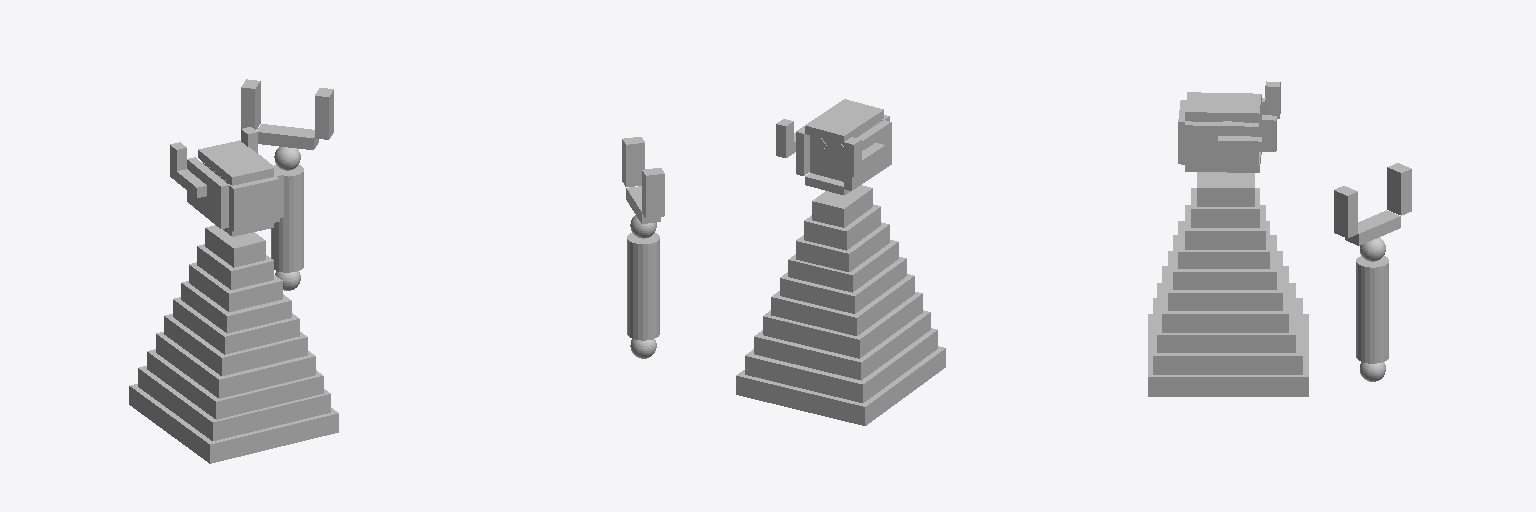
File: MageEnemy.obj
3 views of the same model, side by side, from view 1: azimuth 30°, elevation 25°; view 2: azimuth 150°, elevation 25°; view 3: azimuth 270°, elevation 25° (orthographic).
Parts seen in each view (by area): view 1: Abdomen (8), Abdomen (7), Abdomen (6), Abdomen (5), Abdomen (4), Abdomen (3), StaffBody, Abdomen (2), Hood4, Hood2, Abdomen (1), Abdomen (+6 smaller); view 2: Abdomen (8), Abdomen (7), Abdomen (6), Abdomen (5), StaffBody, Abdomen (4), Abdomen (3), Abdomen (2), Hood2, Abdomen (1), Body, Abdomen (+8 smaller); view 3: Abdomen (8), Abdomen (7), StaffBody, Abdomen (6), Abdomen (5), Abdomen (4), Hood, Abdomen (3), Hood2, Abdomen (2), Abdomen (1), Body (+7 smaller).
Boxes of the visible parts, x1,y1,x2,y2 form: Abdomen (8): [129, 384, 338, 463]; Abdomen (7): [138, 366, 330, 440]; Abdomen (6): [147, 349, 323, 419]; Abdomen (5): [156, 332, 315, 398]; Abdomen (4): [164, 314, 307, 375]; Abdomen (3): [173, 297, 299, 354]; StaffBody: [271, 165, 303, 272]; Abdomen (2): [181, 281, 291, 333]; Hood4: [229, 175, 279, 231]; Hood2: [198, 140, 273, 185]; Abdomen (1): [189, 262, 282, 311]; Abdomen: [197, 244, 273, 289]; Abdomen (8): [736, 346, 945, 425]; Abdomen (7): [745, 328, 937, 402]; Abdomen (6): [754, 310, 930, 380]; Abdomen (5): [763, 292, 922, 358]; StaffBody: [627, 233, 659, 340]; Abdomen (4): [771, 274, 914, 335]; Abdomen (3): [780, 257, 906, 313]; Abdomen (2): [788, 240, 898, 292]; Hood2: [805, 99, 883, 143]; Abdomen (1): [796, 222, 889, 271]; Body: [812, 185, 872, 227]; Abdomen: [804, 204, 880, 250]; Abdomen (8): [1148, 314, 1308, 396]; Abdomen (7): [1153, 298, 1302, 374]; StaffBody: [1356, 256, 1388, 363]; Abdomen (6): [1157, 283, 1295, 352]; Abdomen (5): [1162, 266, 1288, 332]; Abdomen (4): [1168, 251, 1282, 310]; Hood: [1185, 121, 1258, 168]; Abdomen (3): [1173, 235, 1276, 289]; Hood2: [1185, 92, 1261, 121]; Abdomen (2): [1178, 221, 1269, 268]; Abdomen (1): [1185, 205, 1265, 249]; Body: [1197, 172, 1254, 206].
Size of the model in its own units: 3.63 by 4.1 by 3.7.